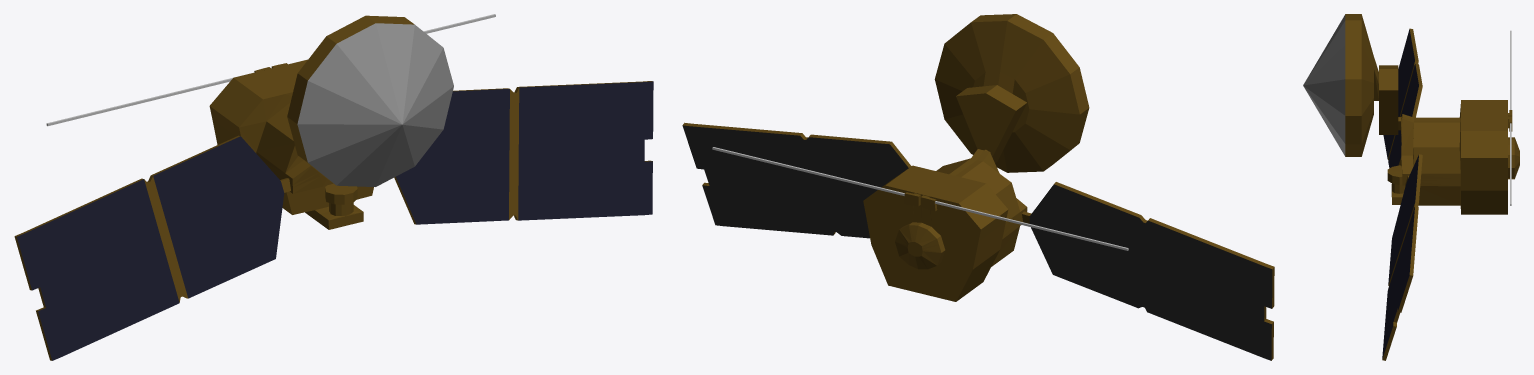
Rendered from generic.obj.
3 views of the same model, side by side, from view 1: azimuth 30°, elevation 25°; view 2: azimuth 150°, elevation 25°; view 3: azimuth 270°, elevation 25° (orthographic). The views are drawn at different scales.
Parts seen in each view (by area): view 1: MRO_Untitled; view 2: MRO_Untitled; view 3: MRO_Untitled.
Boxes of the visible parts, left/top/right/bottom form: MRO_Untitled: left=14, top=14, right=653, bottom=360; MRO_Untitled: left=682, top=14, right=1274, bottom=360; MRO_Untitled: left=1303, top=14, right=1519, bottom=360.
Bounding box in the file's own units: 0.6216 × 0.2636 × 0.231.
